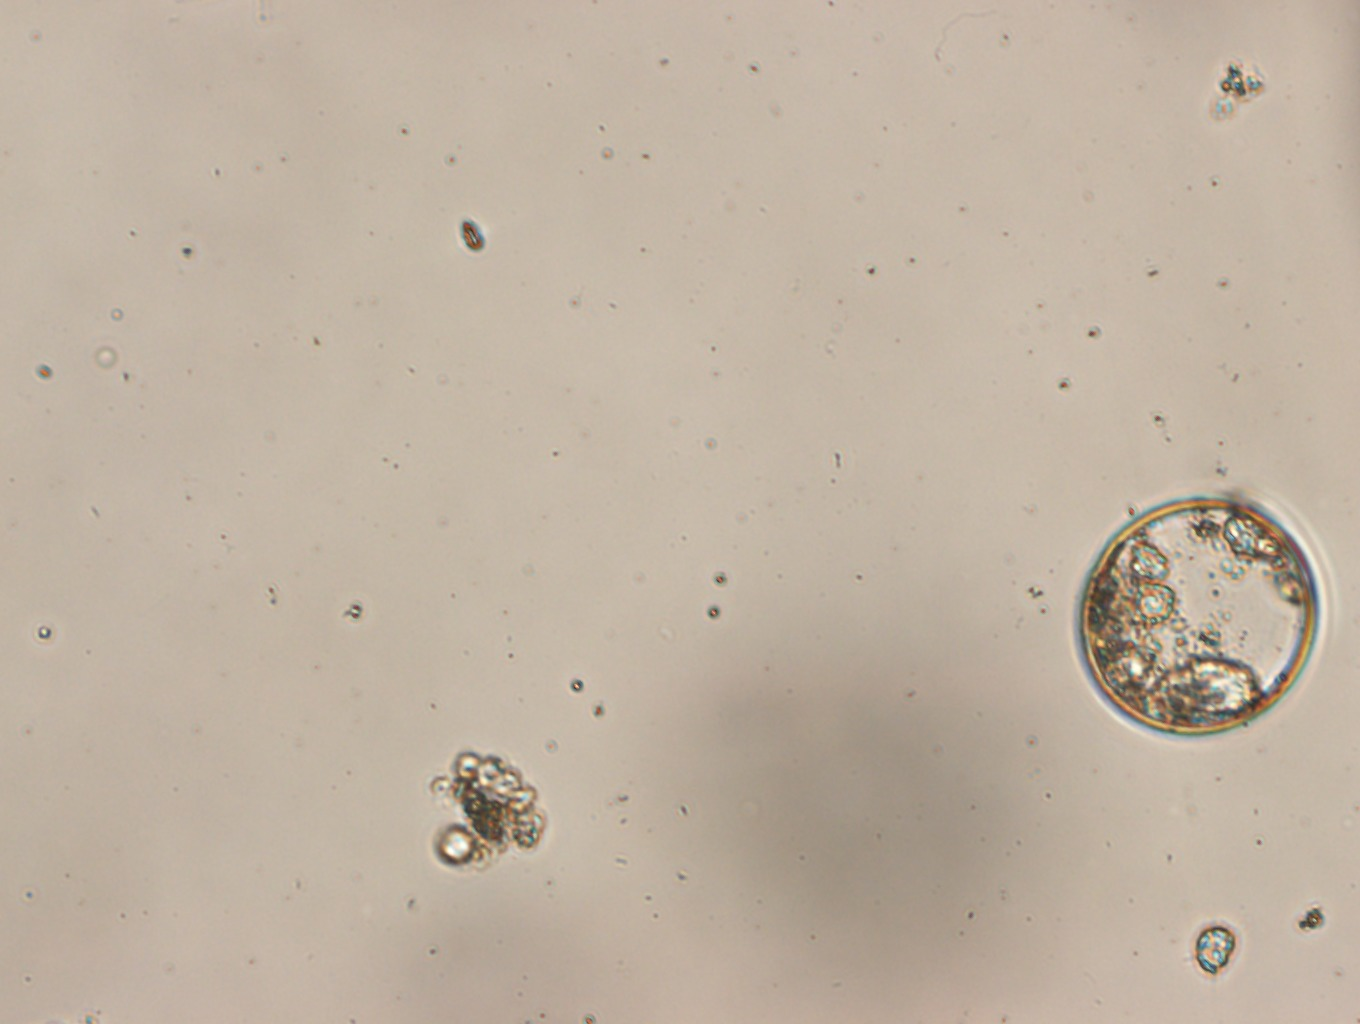coscinodiscus: (1076, 492, 1325, 741)
